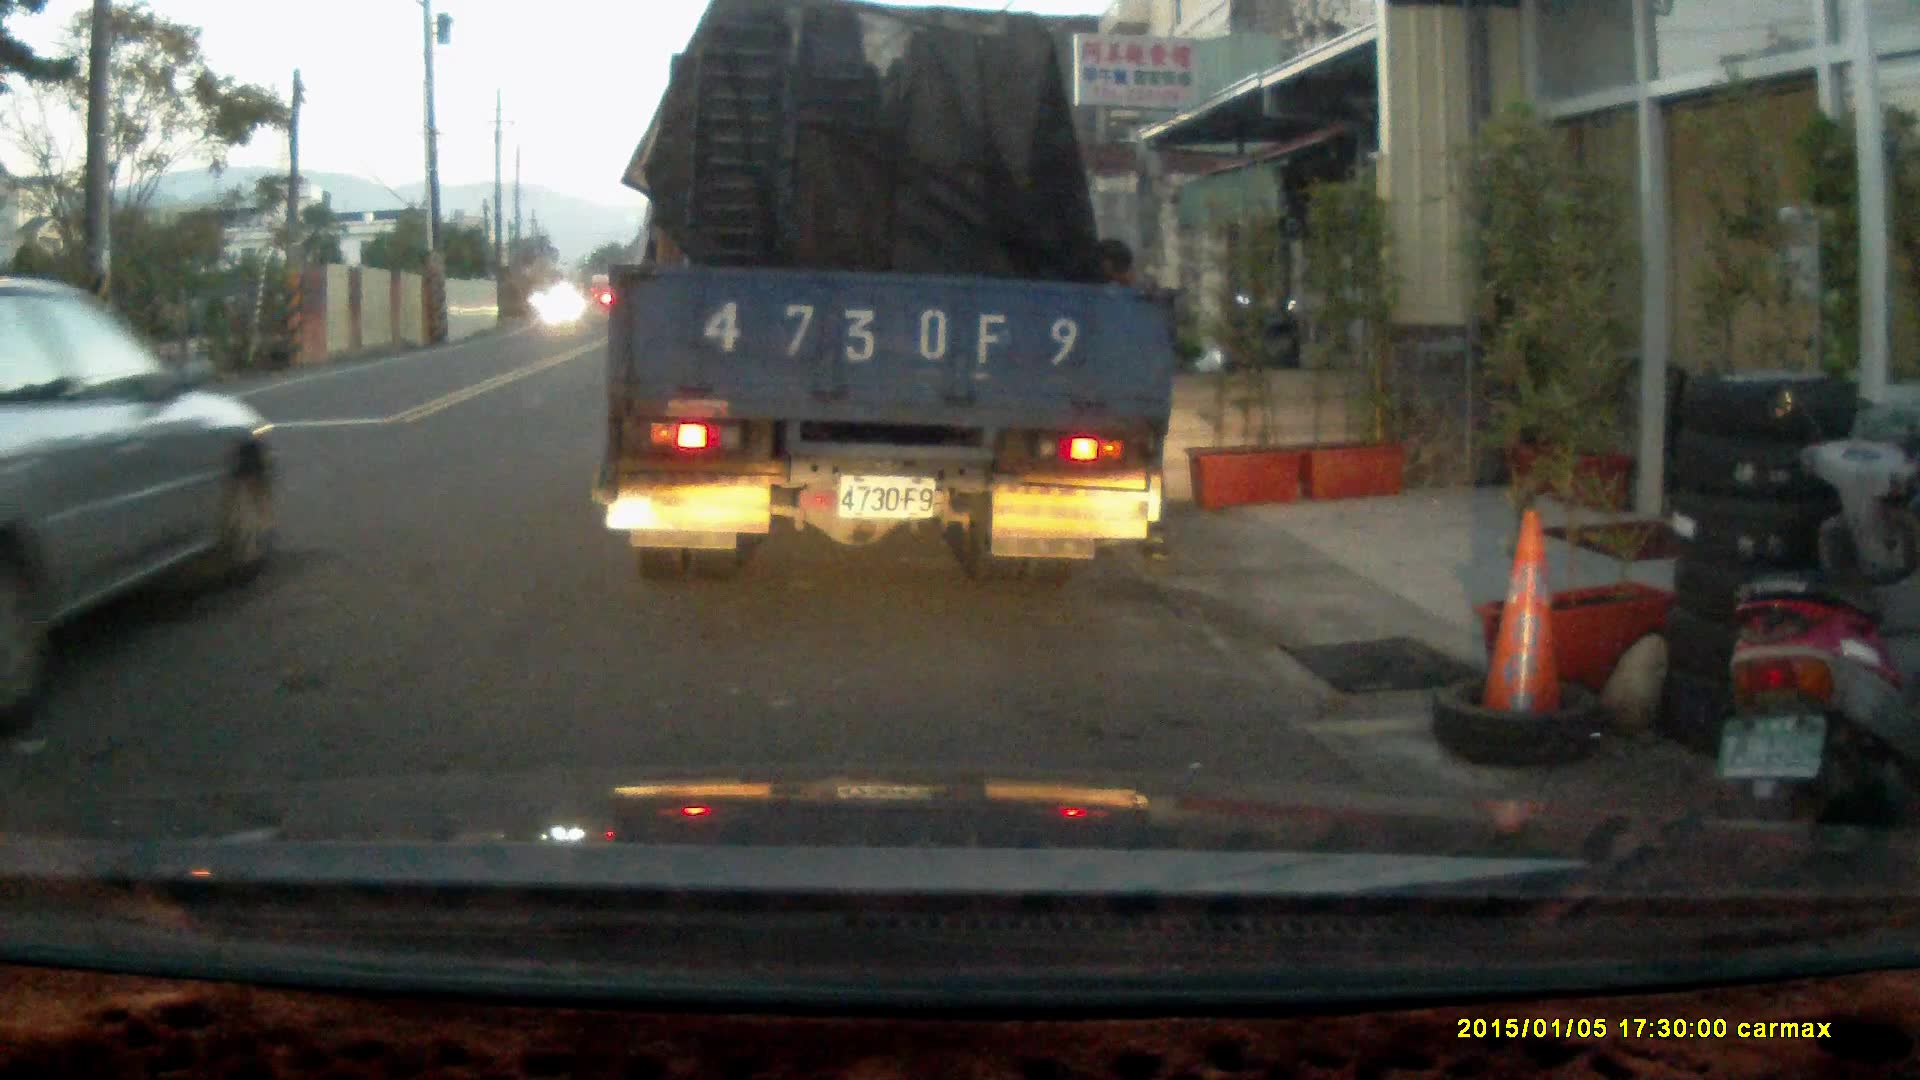vehicle: (605, 22, 1188, 572), (1, 270, 287, 708)
